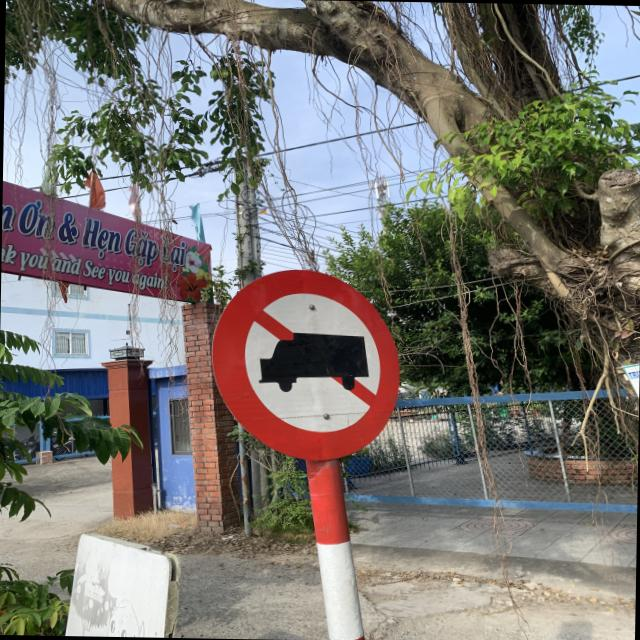Cam_Xe_Tai: (210, 266, 404, 464)
